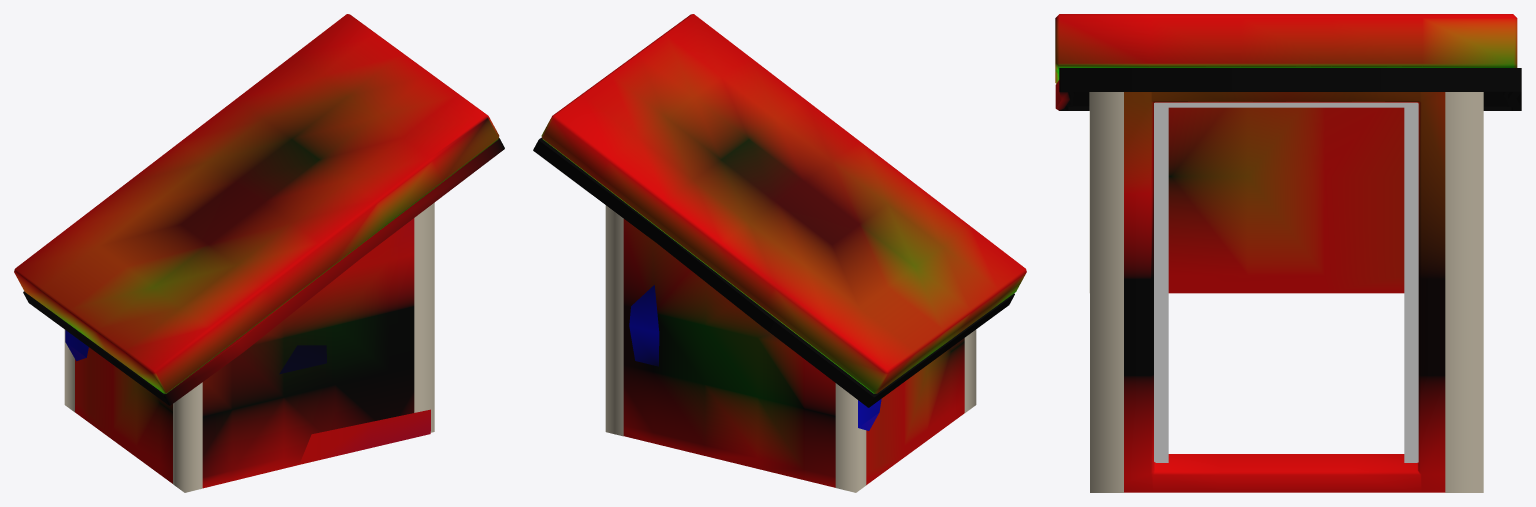
File: ExtraBuilding_B_Snaps004.FBX
3 views of the same model, side by side, from view 1: azimuth 30°, elevation 25°; view 2: azimuth 150°, elevation 25°; view 3: azimuth 270°, elevation 25° (orthographic). The views are drawn at different scales.
Visible parts, largest first — view 1: Geometry_ExtraBuilding_LOD00, Geometry_Decal_A_LOD00, Geometry_Decal_C_LOD00; view 2: Geometry_ExtraBuilding_LOD00, Geometry_Decal_A_LOD00, Geometry_Decal_C_LOD00; view 3: Geometry_ExtraBuilding_LOD00, Geometry_Decal_A_LOD00, Geometry_WindowsFrame_LOD00.
Part boxes in pixels (x1=…): Geometry_ExtraBuilding_LOD00: x1=14, y1=14, x2=504, y2=488; Geometry_Decal_A_LOD00: x1=64, y1=203, x2=434, y2=492; Geometry_Decal_C_LOD00: x1=65, y1=330, x2=430, y2=464; Geometry_ExtraBuilding_LOD00: x1=533, y1=14, x2=1026, y2=487; Geometry_Decal_A_LOD00: x1=605, y1=205, x2=976, y2=492; Geometry_Decal_C_LOD00: x1=629, y1=285, x2=881, y2=430; Geometry_ExtraBuilding_LOD00: x1=1055, y1=14, x2=1521, y2=492; Geometry_Decal_A_LOD00: x1=1089, y1=92, x2=1483, y2=492; Geometry_WindowsFrame_LOD00: x1=1154, y1=102, x2=1418, y2=462.
Size of what is drawn, in the model's own units: 339 by 289 by 238.
